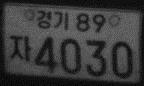0: (58, 37, 81, 75), (110, 40, 133, 78)
3: (85, 38, 107, 77)
4: (33, 35, 58, 75)
8: (75, 12, 91, 32)
9: (91, 13, 107, 33)
경기_H: (35, 8, 69, 31)
자: (8, 34, 33, 63)
